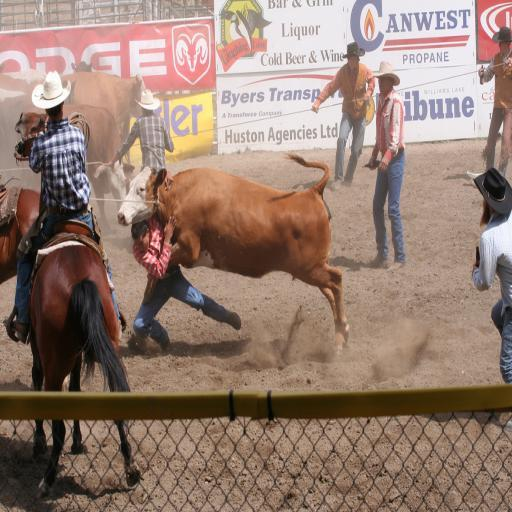Horse: (37, 222, 142, 497), (0, 186, 42, 289)
